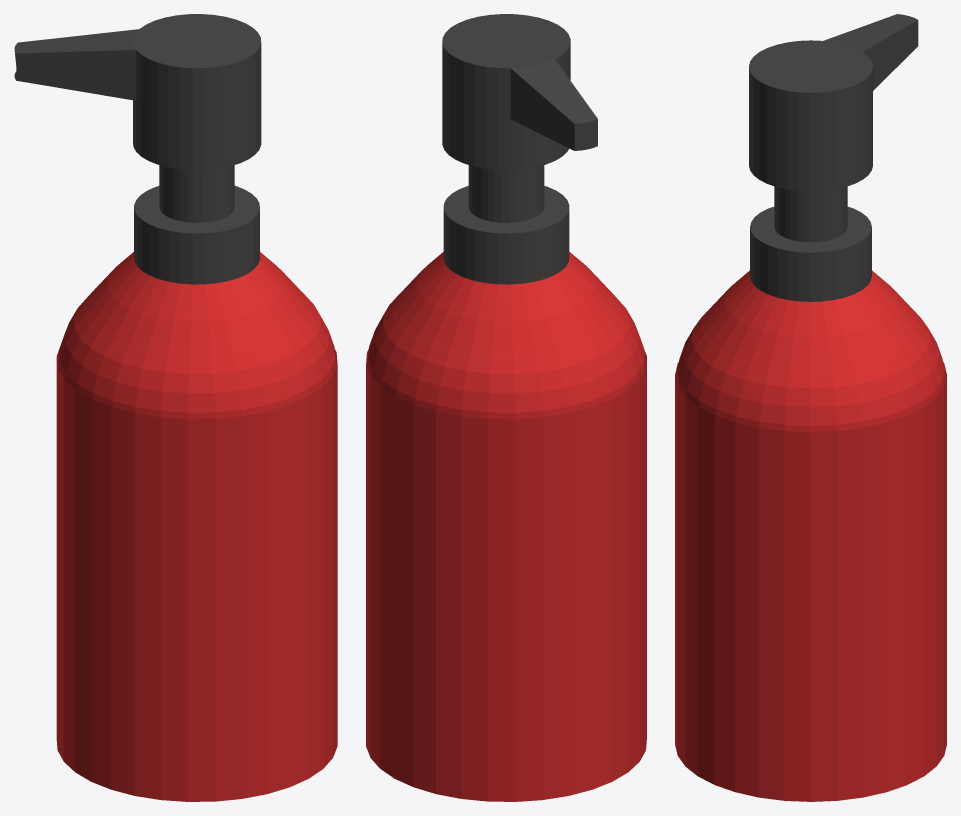
The model's file is aderezo1.obj.
3 views of the same model, side by side, from view 1: azimuth 30°, elevation 25°; view 2: azimuth 150°, elevation 25°; view 3: azimuth 270°, elevation 25° (orthographic). The views are drawn at different scales.
Visible parts, largest first — view 1: AderezoM1_Circle.010_Material.044, AderezoM1_Circle.010_Material.045; view 2: AderezoM1_Circle.010_Material.044, AderezoM1_Circle.010_Material.045; view 3: AderezoM1_Circle.010_Material.044, AderezoM1_Circle.010_Material.045.
Part boxes in pixels (x1=…): AderezoM1_Circle.010_Material.044: x1=56, y1=252, x2=337, y2=801; AderezoM1_Circle.010_Material.045: x1=14, y1=14, x2=261, y2=284; AderezoM1_Circle.010_Material.044: x1=366, y1=252, x2=646, y2=801; AderezoM1_Circle.010_Material.045: x1=442, y1=14, x2=597, y2=284; AderezoM1_Circle.010_Material.044: x1=675, y1=270, x2=946, y2=801; AderezoM1_Circle.010_Material.045: x1=749, y1=14, x2=918, y2=301.
Size of the model in its own units: 0.6658 by 1.73 by 0.6289.
Materials: 2 (2 with a texture image).
